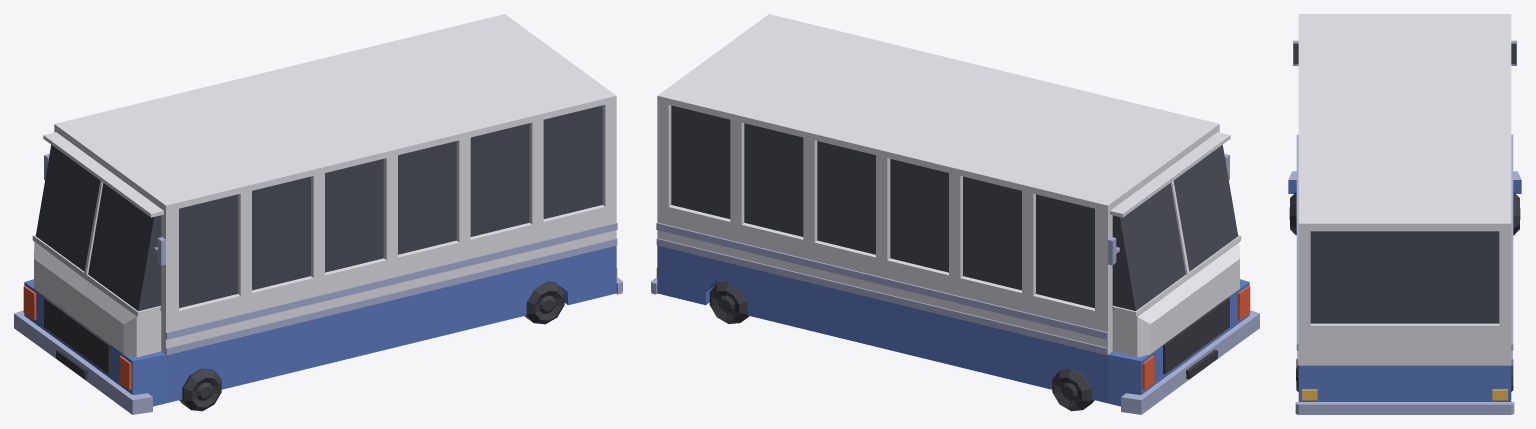
The model's file is Bus.obj.
3 views of the same model, side by side, from view 1: azimuth 30°, elevation 25°; view 2: azimuth 150°, elevation 25°; view 3: azimuth 270°, elevation 25° (orthographic). The views are drawn at different scales.
Visible parts, largest first — view 1: Bus; view 2: Bus; view 3: Bus.
Part boxes in pixels (x1=…): Bus: x1=14, y1=14, x2=622, y2=414; Bus: x1=651, y1=14, x2=1259, y2=414; Bus: x1=1288, y1=14, x2=1521, y2=414.
Bounding box in the file's own units: 4.09 × 1.68 × 1.74.
Materials: 7 (7 with a texture image).
